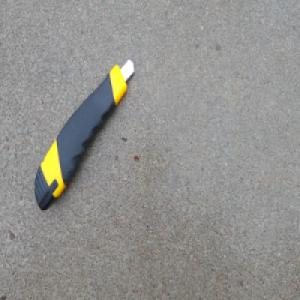Cutter: (35, 56, 135, 213)
